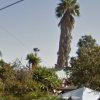Palm tree: (51, 0, 81, 71)
